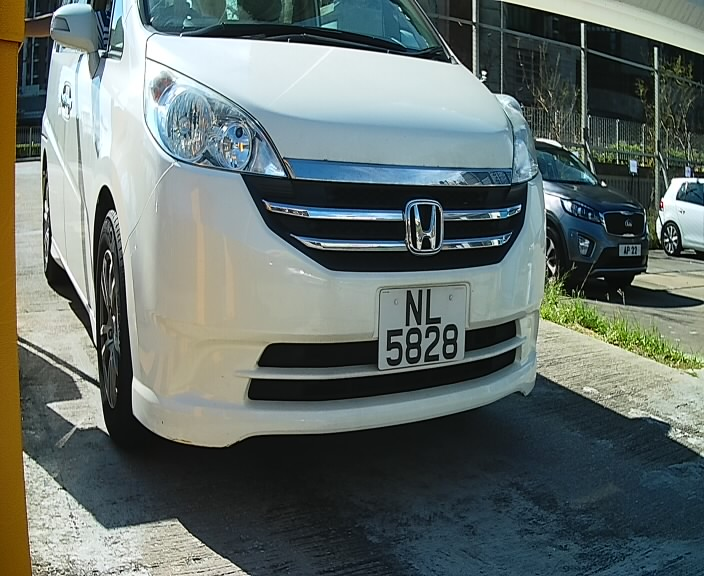Car: (26, 3, 556, 477)
License Plate: (364, 272, 480, 377)
